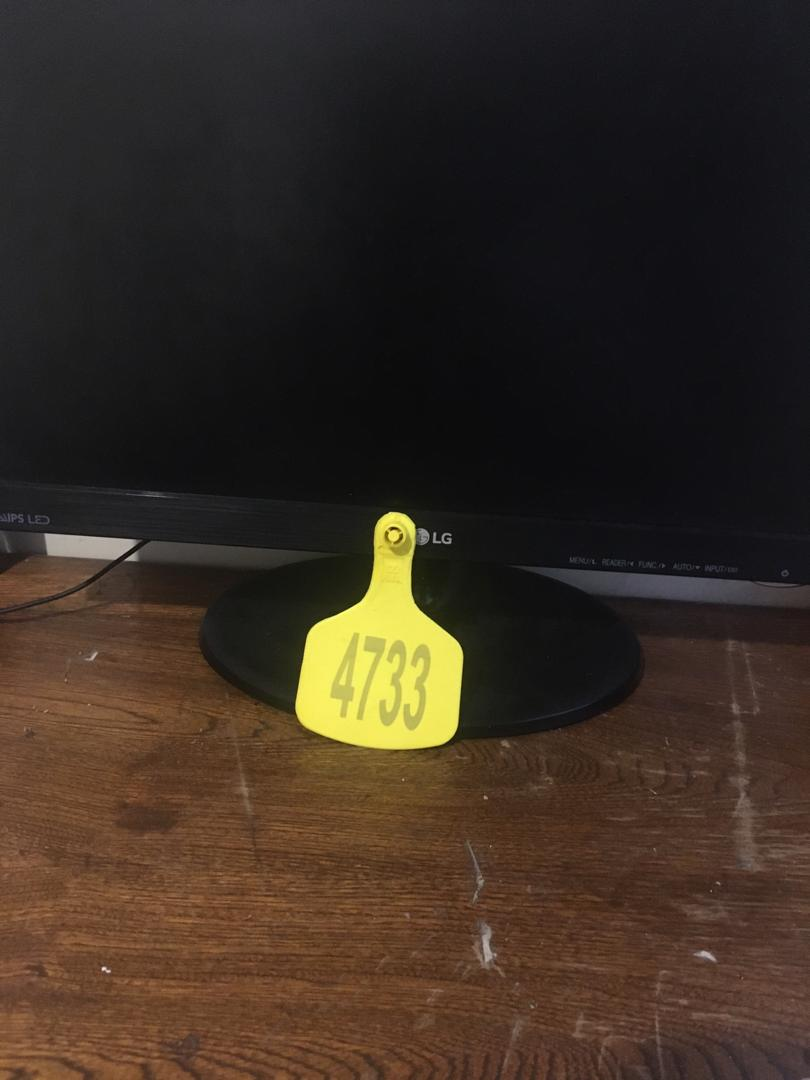digit: (329, 631, 432, 734)
